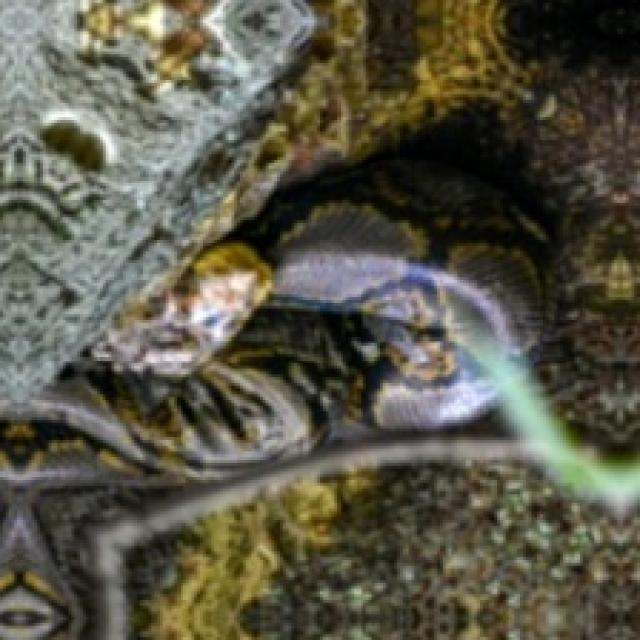reticulated python: (26, 170, 558, 478)
